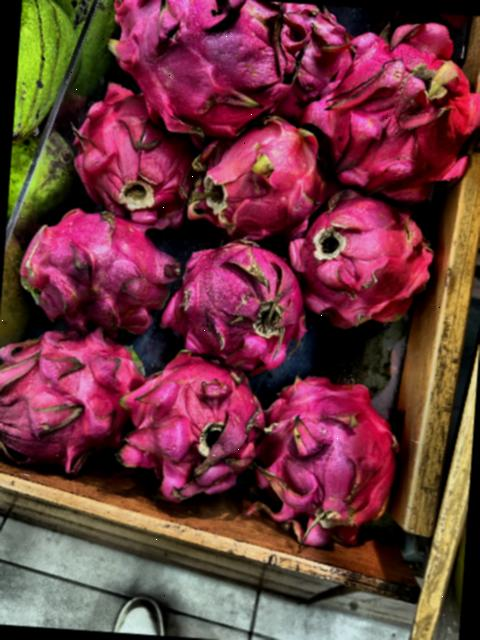buah-naga-matang: (303, 4, 480, 197), (114, 342, 274, 524), (105, 0, 304, 141), (255, 372, 410, 552), (0, 315, 147, 482), (284, 183, 434, 344), (17, 199, 177, 339), (156, 231, 307, 370), (63, 86, 196, 234), (182, 116, 332, 234)
